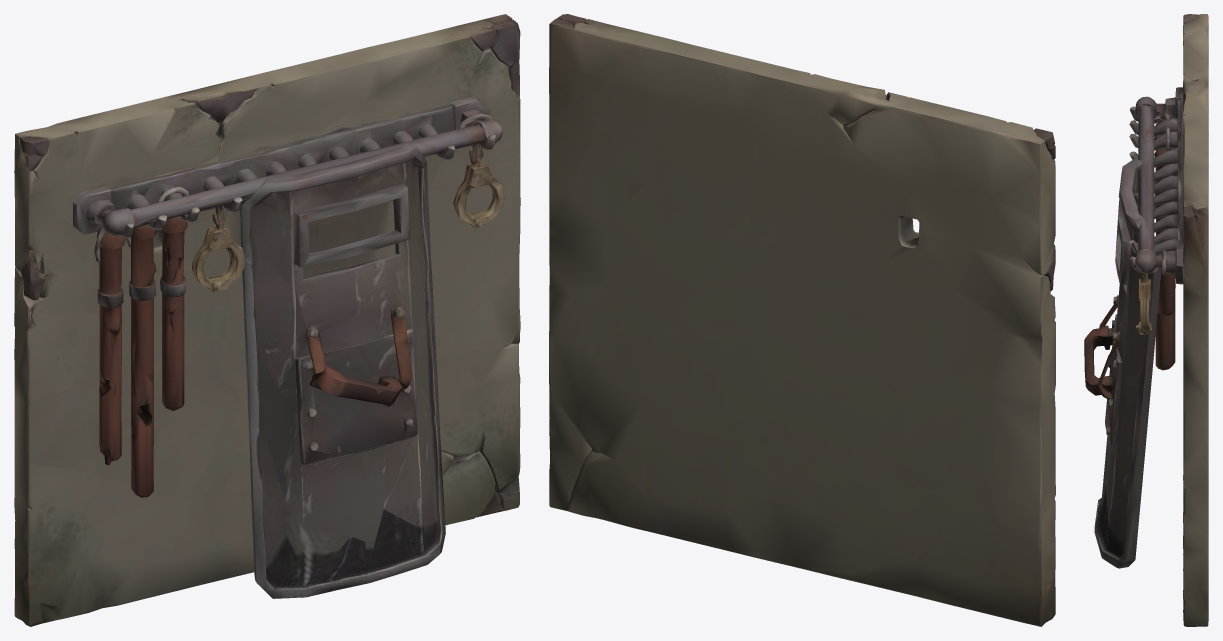
File: prison_rack_batons_idle.glb
The picture shows the model from 3 angles, left to right: view 1: azimuth 30°, elevation 25°; view 2: azimuth 150°, elevation 25°; view 3: azimuth 270°, elevation 25°; orthographic projection. The views are drawn at different scales.
Visible parts, largest first — view 1: tripo_node_d7349af4-2c83-47f4-b667-a6539be2c7aa; view 2: tripo_node_d7349af4-2c83-47f4-b667-a6539be2c7aa; view 3: tripo_node_d7349af4-2c83-47f4-b667-a6539be2c7aa.
Boxes of the visible parts, bbox=[...] form: tripo_node_d7349af4-2c83-47f4-b667-a6539be2c7aa: bbox=[14, 14, 520, 626]; tripo_node_d7349af4-2c83-47f4-b667-a6539be2c7aa: bbox=[549, 14, 1055, 626]; tripo_node_d7349af4-2c83-47f4-b667-a6539be2c7aa: bbox=[1084, 14, 1208, 626].
Bounding box in the file's own units: 1.27 × 1.2 × 0.3289.
Materials: 1 (1 with a texture image).
